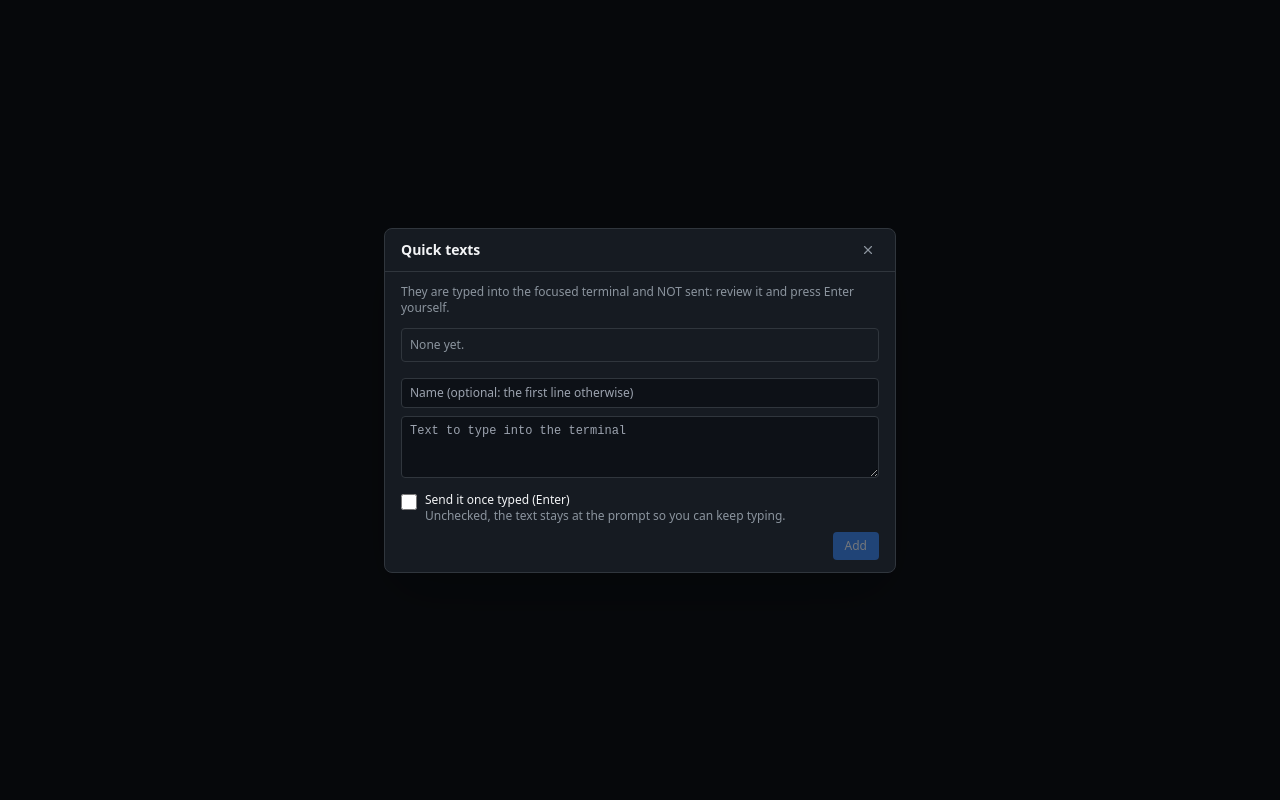
Test: Ajustes de los textos rápidos › guarda uno nuevo y lo muestra en la lista
Expected: the list item "None yet." is shown, 410,336 -> 464,352
Type "Revisar" into the field with placeholder "Name (optional: the first line otherwise)" at (640, 392), box 401,378 -> 879,408
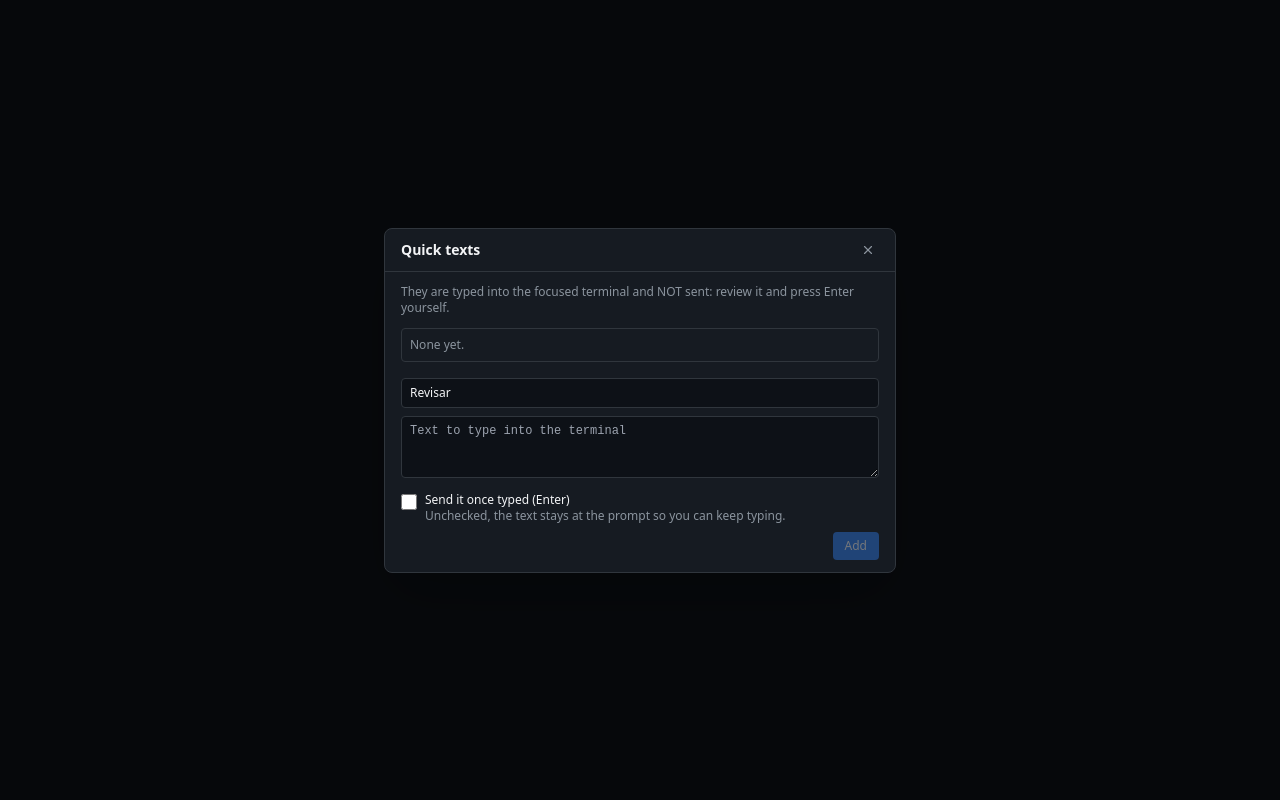
Type "/code-review high" into the text box with placeholder "Text to type into the terminal" at (640, 446), box 401,416 -> 879,478
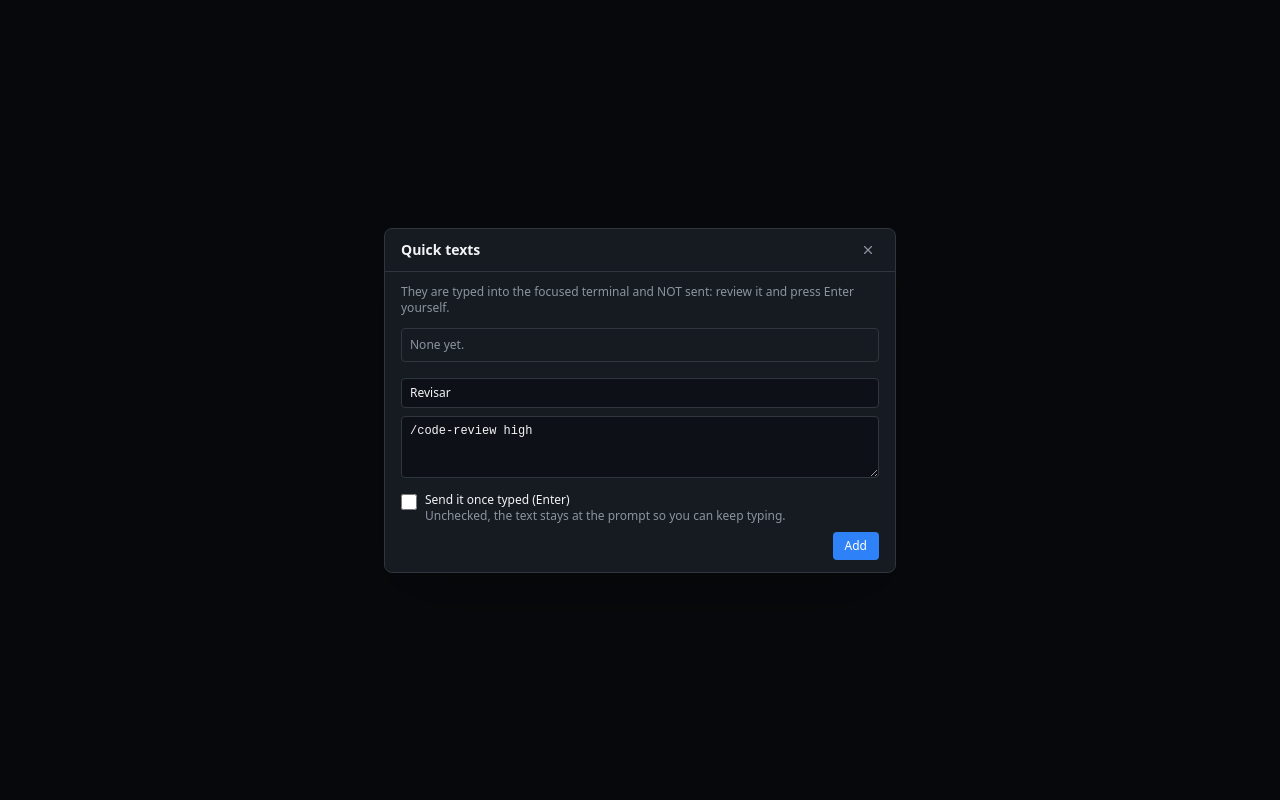
Click the button "Add" at (856, 546), box 833,532 -> 879,560
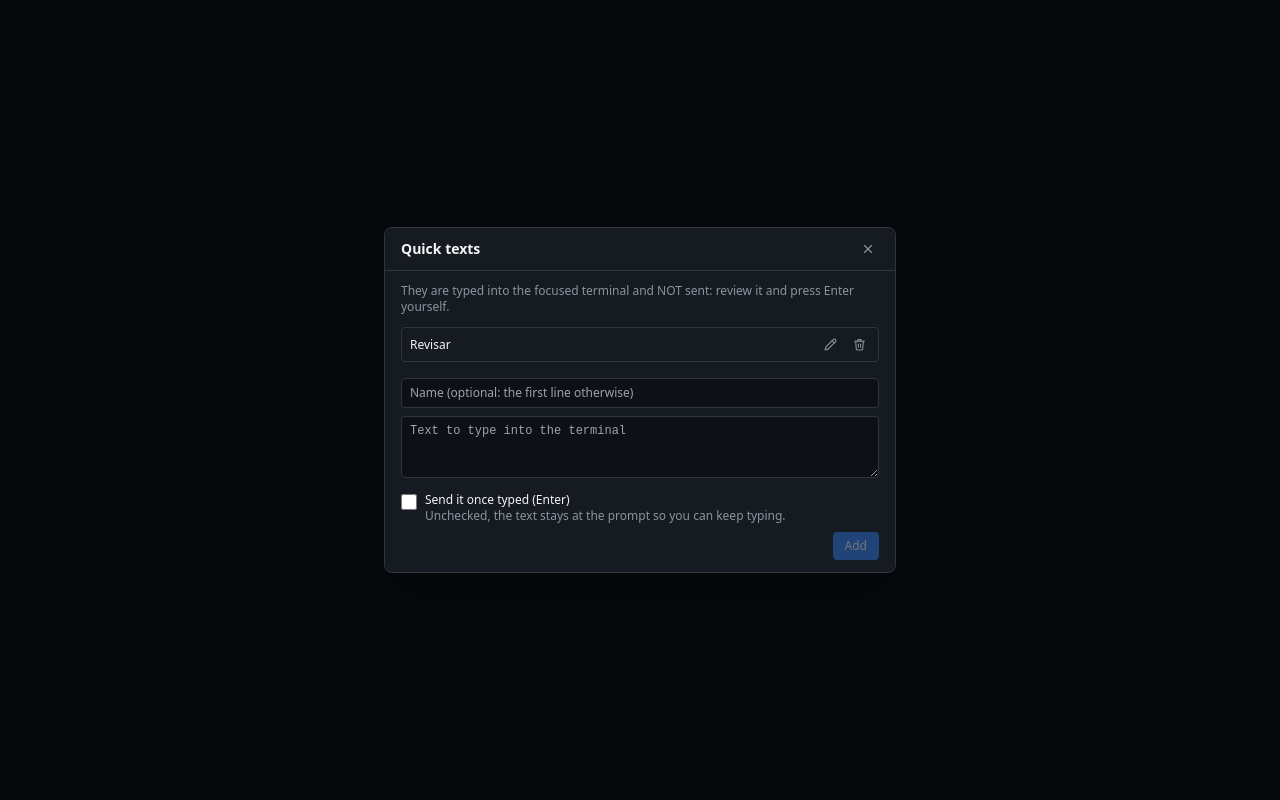
Now the text "Revisar" is shown, box 410,336 -> 451,352
